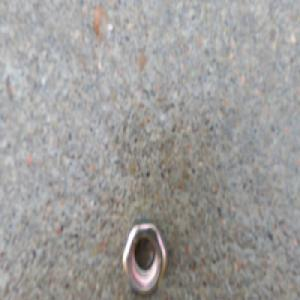Nut: (120, 218, 169, 298)
